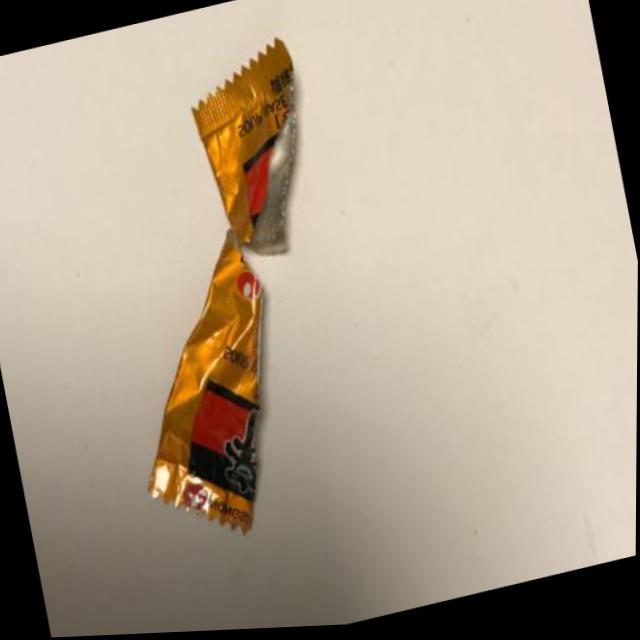trash: (20, 9, 420, 585)
